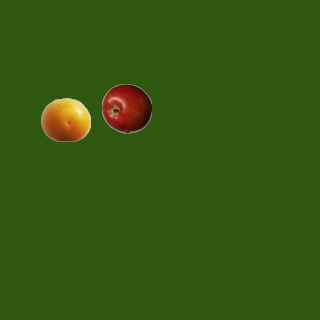Apple Braeburn: (101, 83, 151, 133)
Cherry Wax Yellow: (40, 94, 90, 144)
